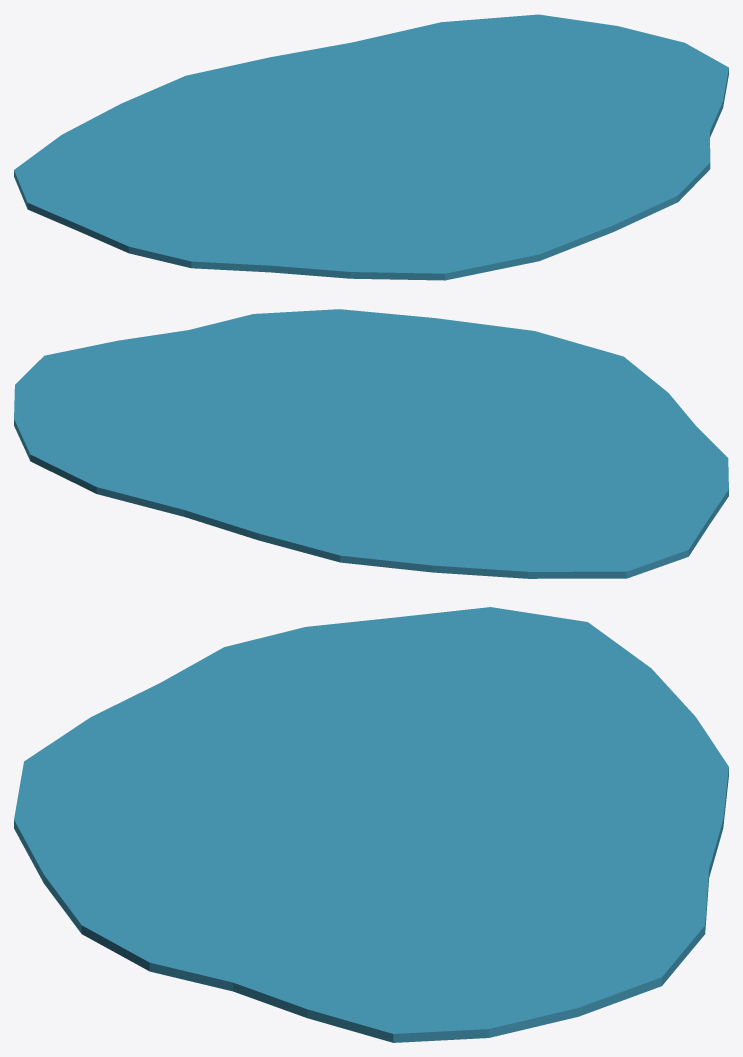
The picture shows the model from 3 angles, top to bottom: view 1: azimuth 30°, elevation 25°; view 2: azimuth 150°, elevation 25°; view 3: azimuth 270°, elevation 25°; orthographic projection. The views are drawn at different scales.
Parts seen in each view (by area): view 1: 瀑底潭_深水纸层.001; view 2: 瀑底潭_深水纸层.001; view 3: 瀑底潭_深水纸层.001.
Part boxes in pixels (left/top/right/bottom): 瀑底潭_深水纸层.001: left=14, top=14, right=728, bottom=280; 瀑底潭_深水纸层.001: left=14, top=309, right=728, bottom=578; 瀑底潭_深水纸层.001: left=14, top=607, right=728, bottom=1042.
Size of the model in its own units: 1.54 by 0.015 by 1.09.
